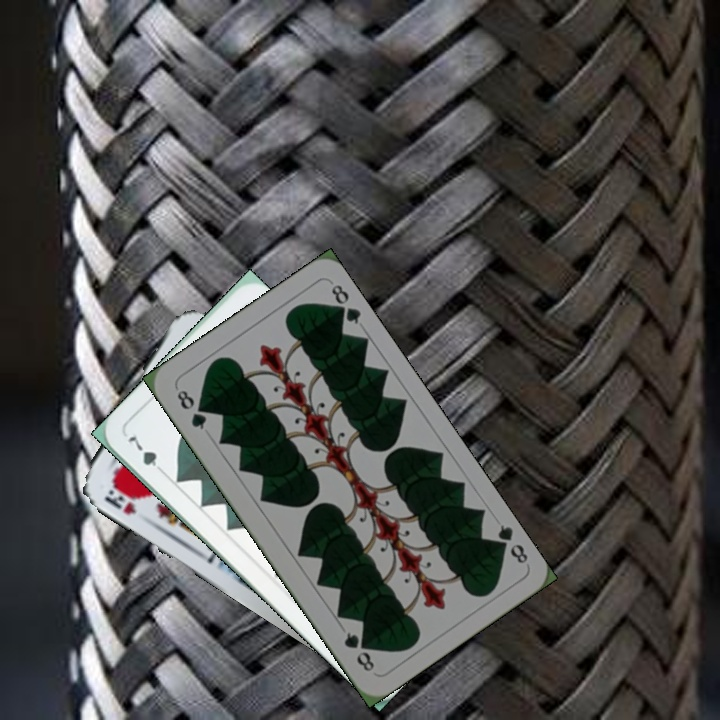G7: (123, 432, 169, 478)
G8: (489, 520, 531, 567), (172, 385, 210, 433)
HK: (99, 485, 139, 518)
